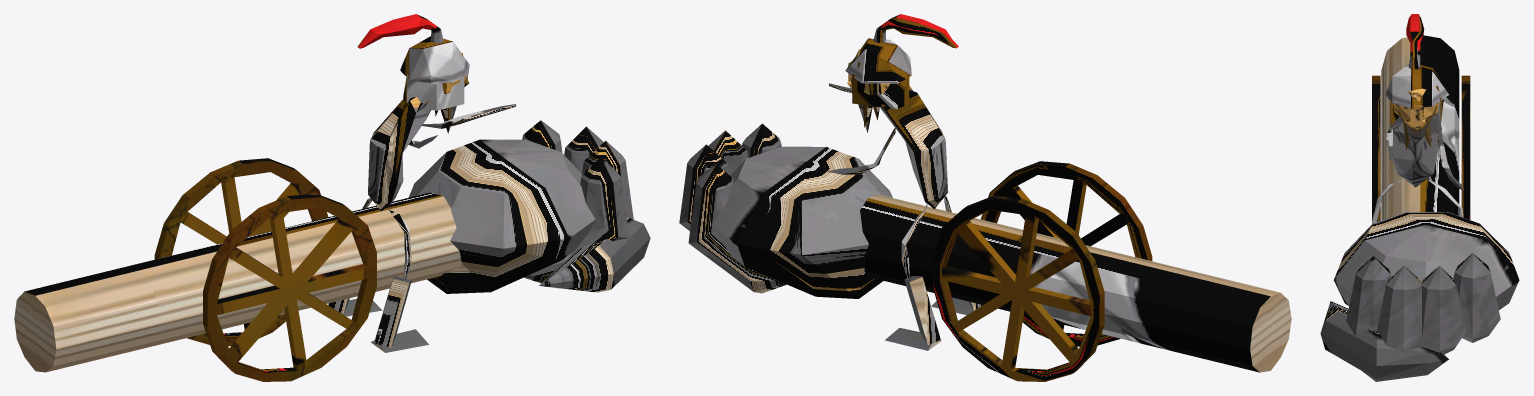
The model's file is Punch.glb.
The picture shows the model from 3 angles, left to right: view 1: azimuth 30°, elevation 25°; view 2: azimuth 150°, elevation 25°; view 3: azimuth 270°, elevation 25°; orthographic projection. The views are drawn at different scales.
Visible parts, largest first — view 1: Punch; view 2: Punch; view 3: Punch.
Boxes of the visible parts, x1,y1,x2,y2 form: Punch: [14, 14, 650, 381]; Punch: [679, 14, 1291, 381]; Punch: [1320, 14, 1519, 381].
Size of the model in its own units: 415 by 209 by 131.
1 material, 1 textured.
